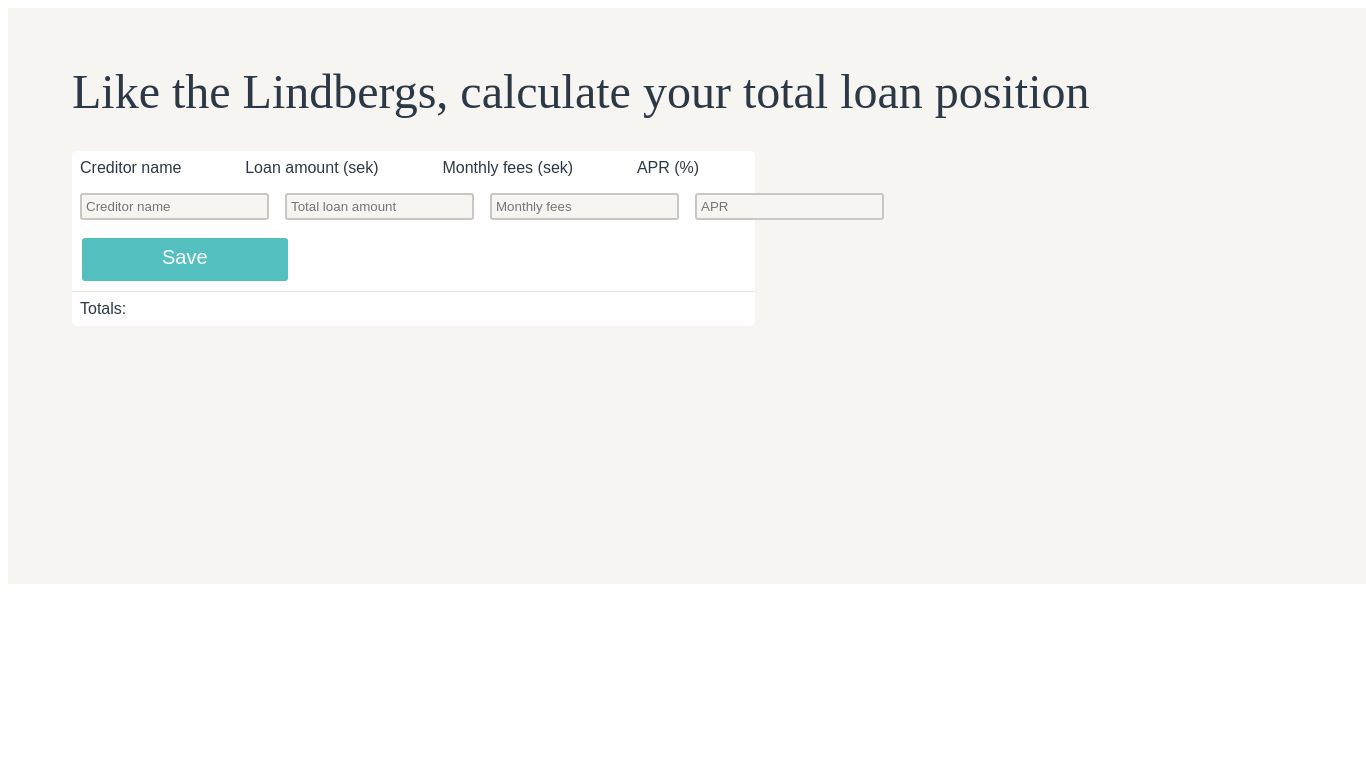
Visitor can calculate their total loan liability › successfully
The width and height of the screenshot is (1366, 768).
Type "ICA" into the field with test id "creditorName". click: [175, 207]
box: x1=80 y1=193 x2=269 y2=220
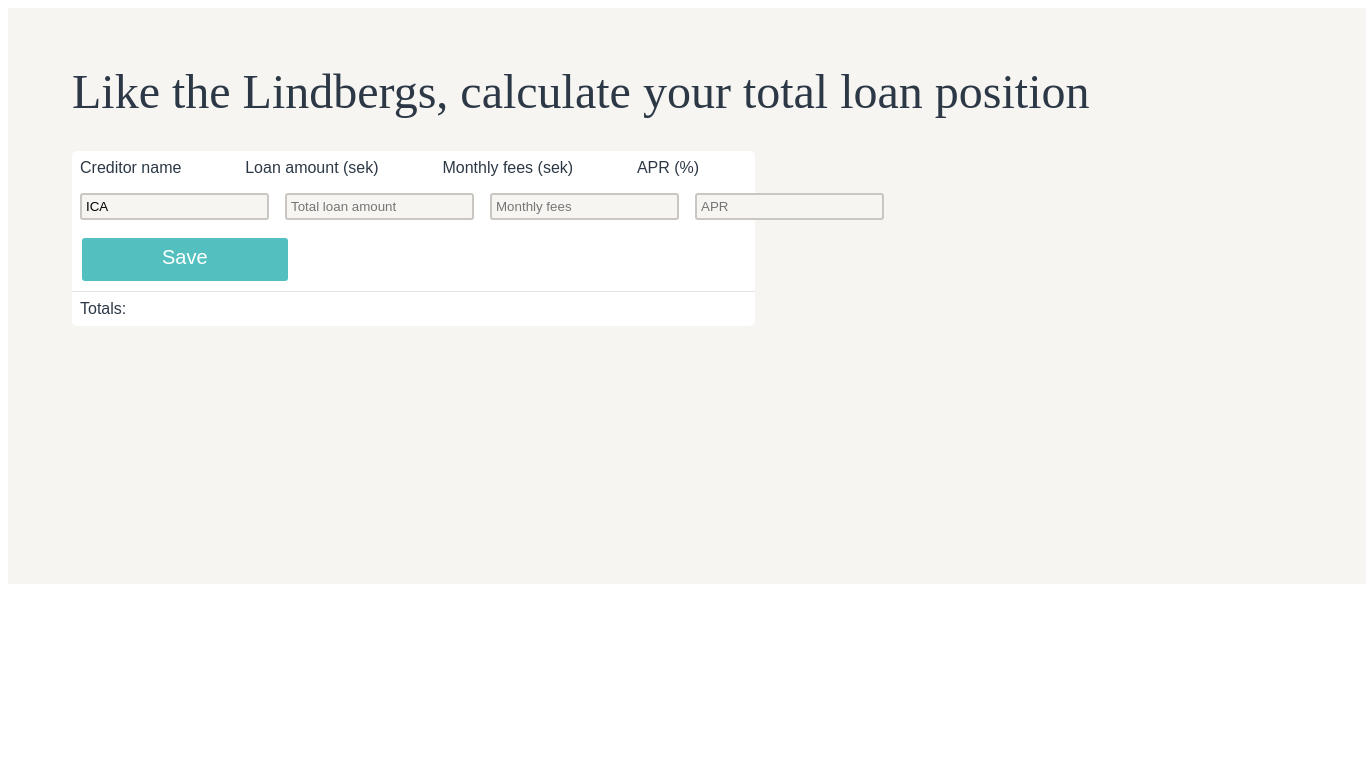
Type "36000" into the field with test id "loanAmount". click: [380, 207]
box: x1=285 y1=193 x2=474 y2=220
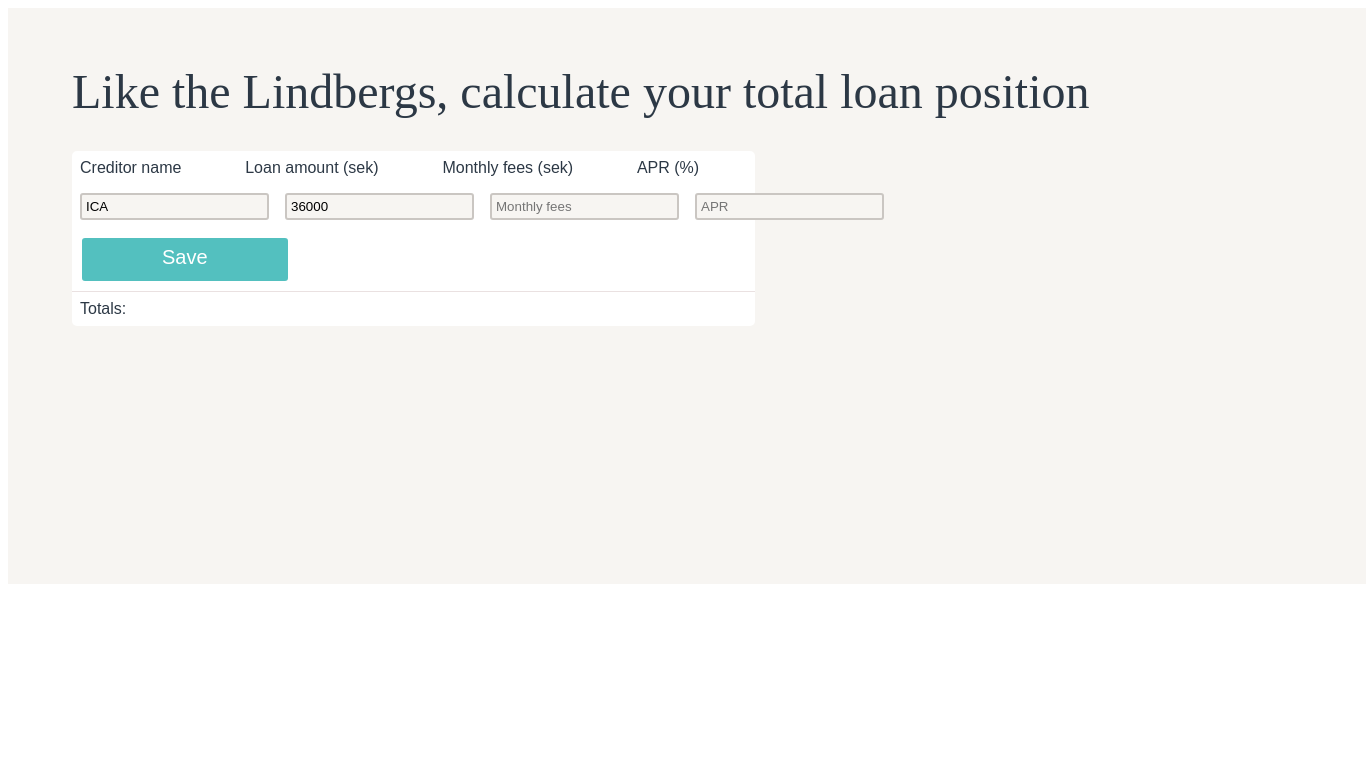
Type "50" into the field with test id "monthlyFees". click: [585, 207]
box: x1=490 y1=193 x2=679 y2=220
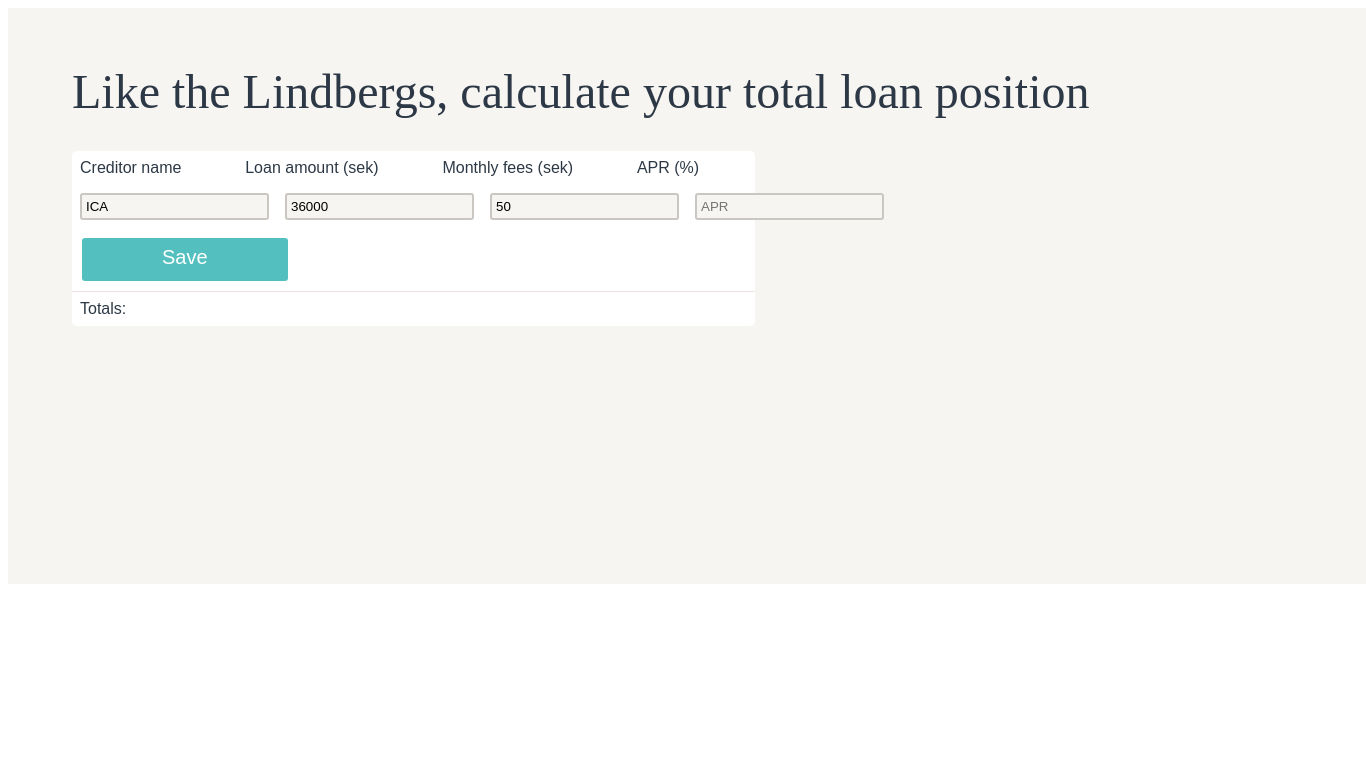
Type "7.54" into the field with test id "apr". click: [790, 207]
box: x1=695 y1=193 x2=884 y2=220
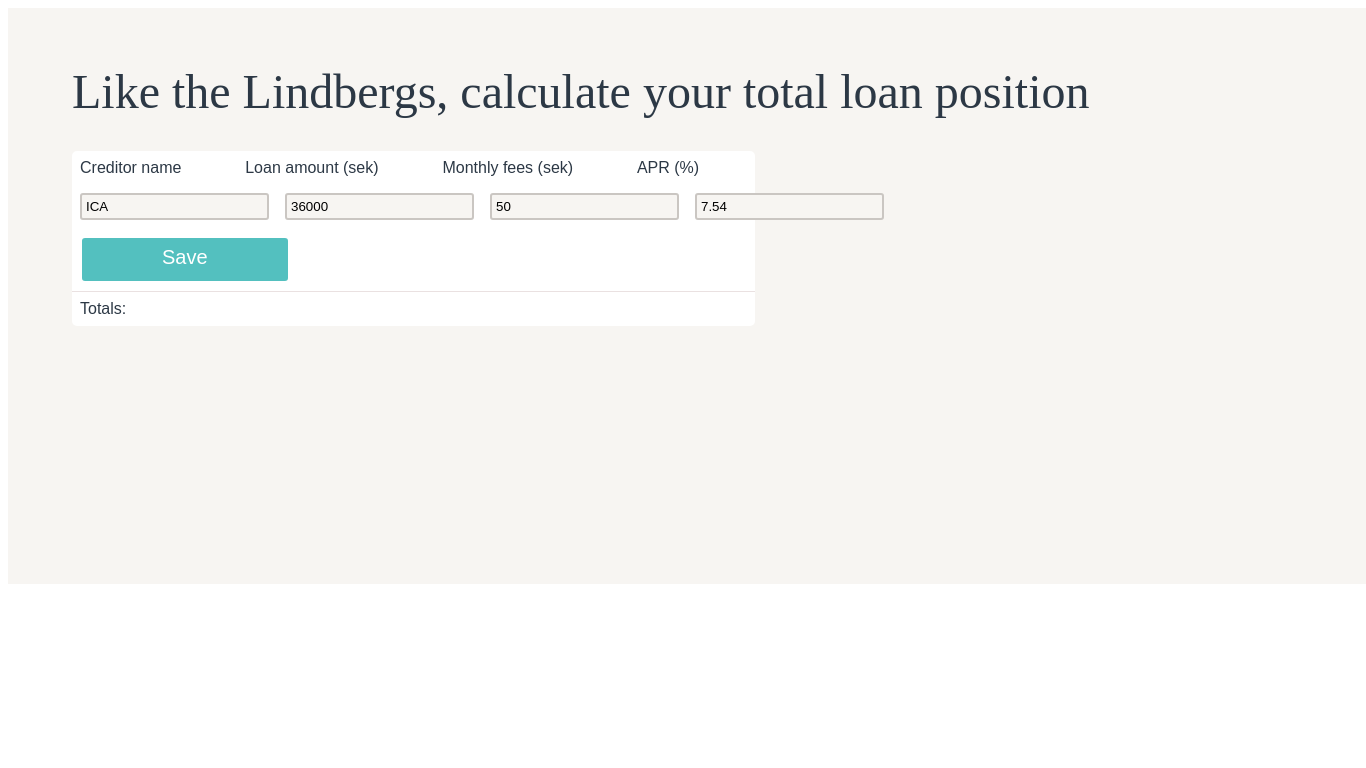
Click the button "Save". click: [185, 260]
box: x1=80 y1=236 x2=290 y2=283
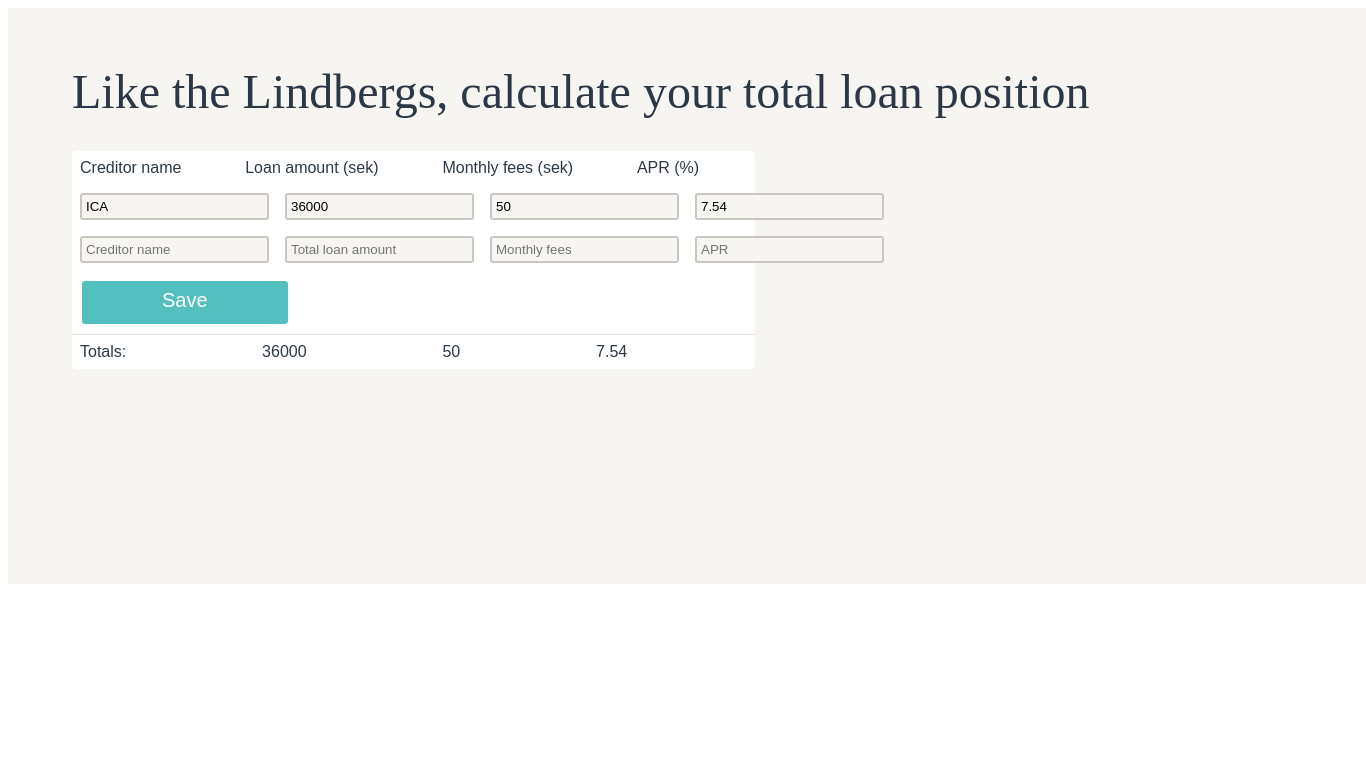
Result: the text with test id "totalLoanAmount" reads "36000" at x1=262 y1=343 x2=307 y2=360
Result: the text with test id "totalMonthlyFees" reads "50" at x1=442 y1=343 x2=460 y2=360
Result: the text with test id "totalApr" reads "7.54" at x1=596 y1=343 x2=627 y2=360
